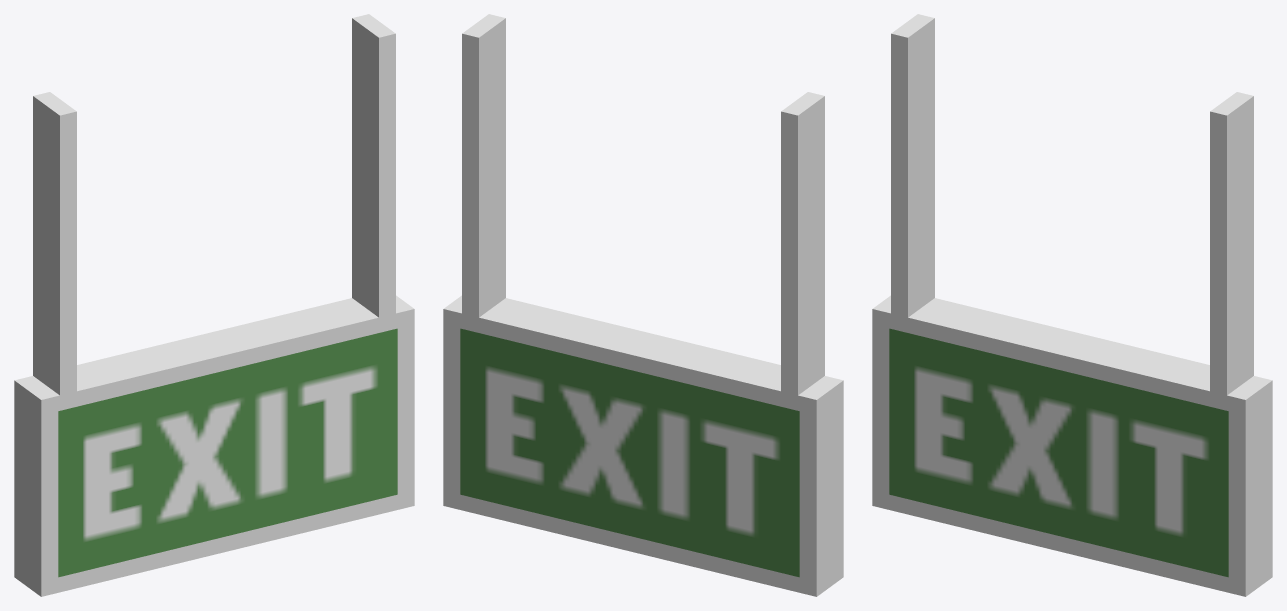
File: SM_Prop_CeilingExit_01.fbx
The picture shows the model from 3 angles, left to right: view 1: azimuth 30°, elevation 25°; view 2: azimuth 150°, elevation 25°; view 3: azimuth 330°, elevation 25°; orthographic projection.
Parts seen in each view (by area): view 1: SM_Prop_CeilingExit_01; view 2: SM_Prop_CeilingExit_01; view 3: SM_Prop_CeilingExit_01.
Boxes of the visible parts, box(x1,y1,x2,y2) form: SM_Prop_CeilingExit_01: box(14, 14, 414, 596); SM_Prop_CeilingExit_01: box(443, 14, 843, 596); SM_Prop_CeilingExit_01: box(872, 14, 1272, 596).
Bounding box in the file's own units: 42.69 × 52.1 × 5.32.
